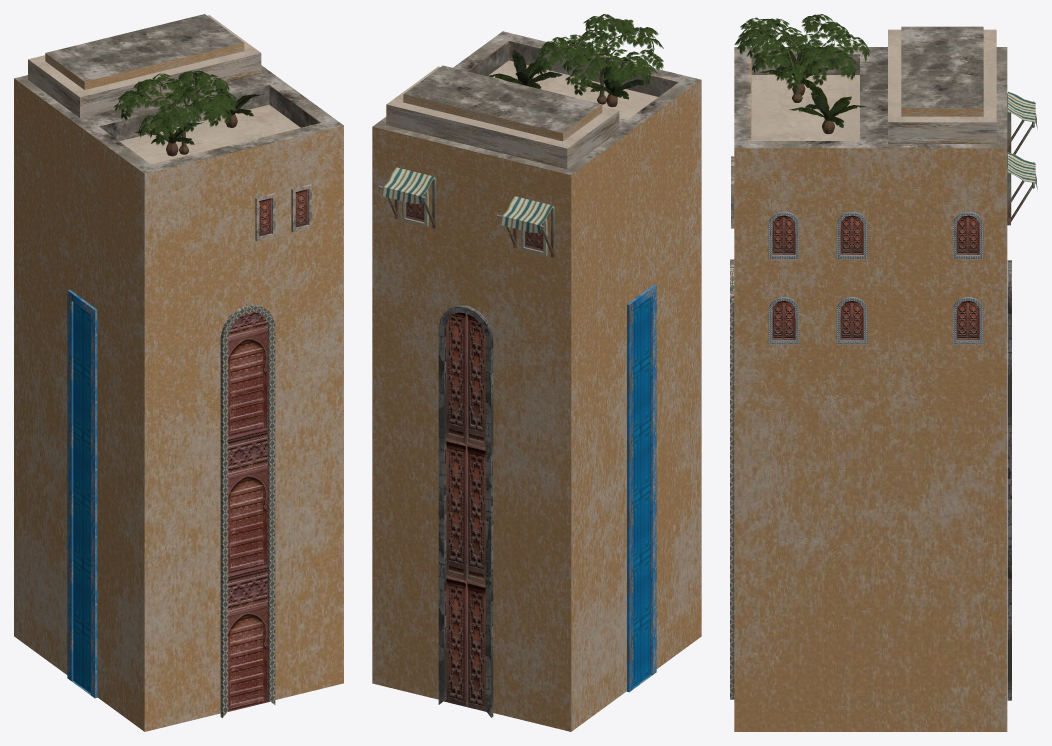
File: medina_cityscape_daar_03_3.gltf
The picture shows the model from 3 angles, left to right: view 1: azimuth 30°, elevation 25°; view 2: azimuth 150°, elevation 25°; view 3: azimuth 270°, elevation 25°; orthographic projection. The views are drawn at different scales.
Visible parts, largest first — view 1: medina_cityscape_daar_03_3; view 2: medina_cityscape_daar_03_3; view 3: medina_cityscape_daar_03_3.
Boxes of the visible parts, box(x1,y1,x2,y2) form: medina_cityscape_daar_03_3: box(14, 14, 343, 731); medina_cityscape_daar_03_3: box(372, 14, 701, 731); medina_cityscape_daar_03_3: box(730, 14, 1037, 731).
Bounding box in the file's own units: 3.21 × 9.34 × 4.02.
Materials: 12 (12 with a texture image).
